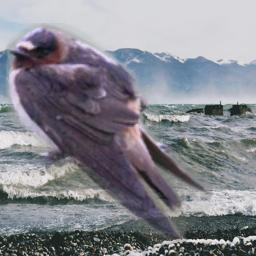Swallow: (3, 23, 213, 244)
